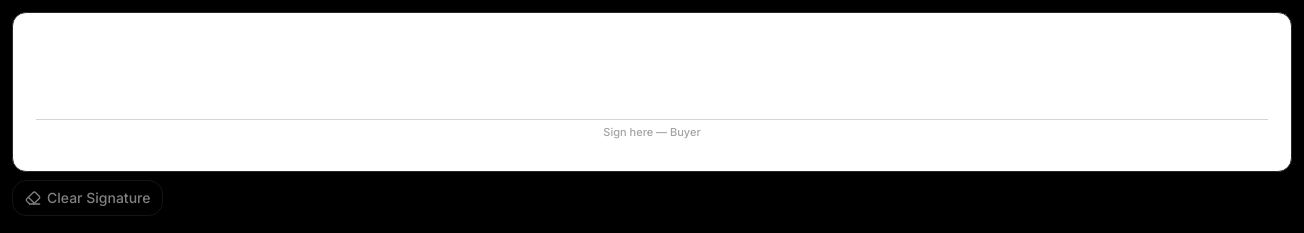
Test: SignaturePad › prompts for a signature until there is ink, and disables Clear while empty
expect the text "Sign here — Buyer" is shown: met, box left=603, top=124, right=701, bottom=138
expect the button "Clear Signature" is disabled: met, box left=12, top=180, right=163, bottom=216
Press the mouse on the picture named "signature pad" at (652, 92), box left=12, top=12, right=1292, bottom=172
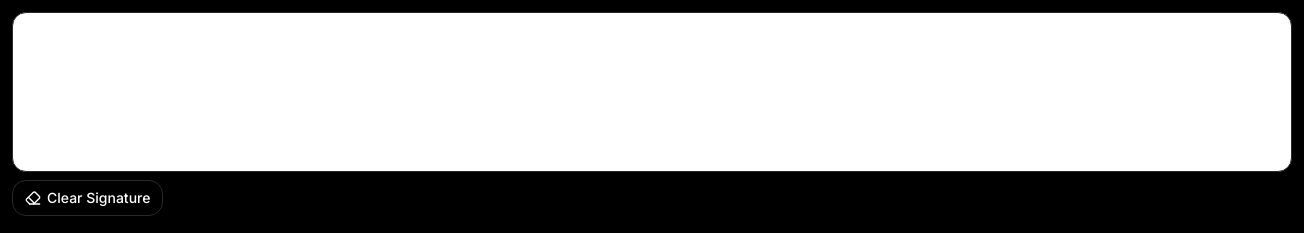
expect the text "Sign here" is gone: met
expect the button "Clear Signature" is enabled: met, box left=12, top=180, right=163, bottom=216
